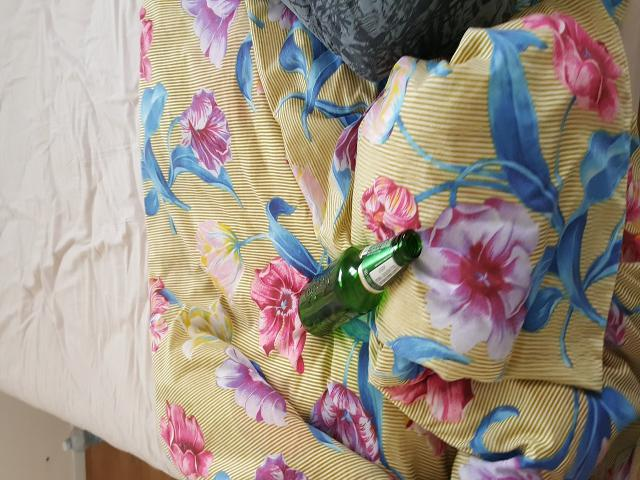beer: (299, 231, 423, 336)
